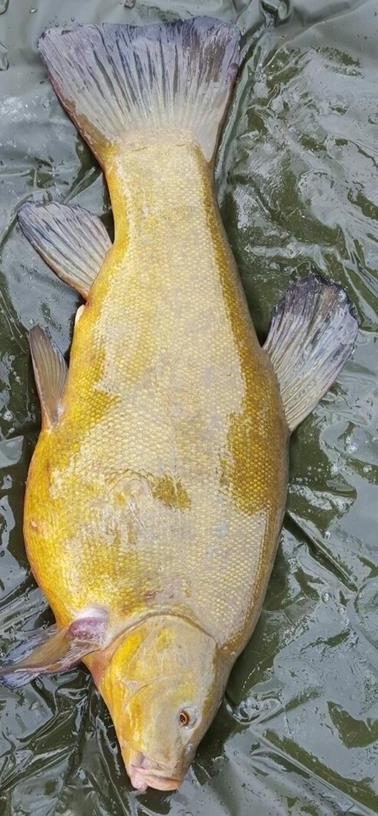Tinca tinca: (20, 20, 358, 796)
